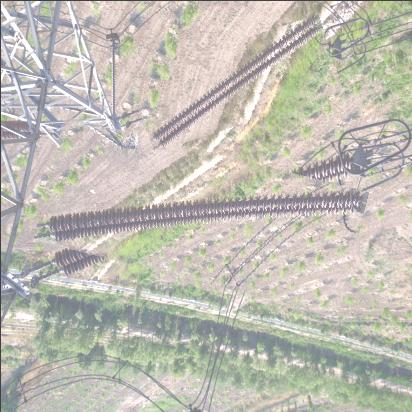insulator: (39, 134, 363, 298), (133, 29, 340, 139)
